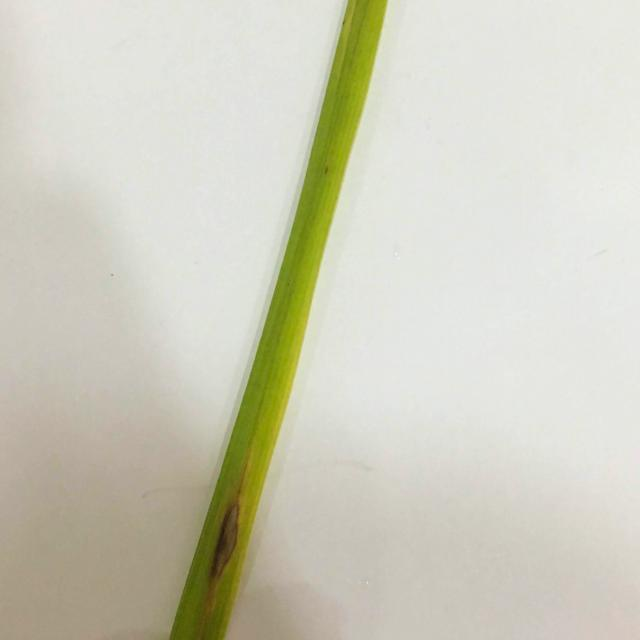Blast: (215, 506, 238, 584)
